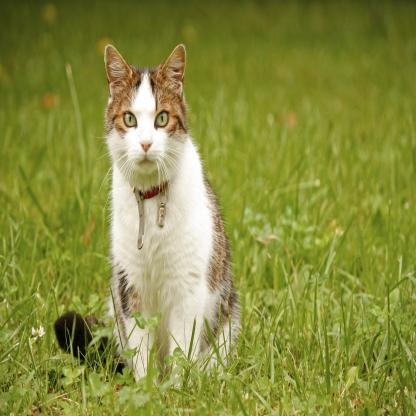cat: (104, 42, 232, 334)
